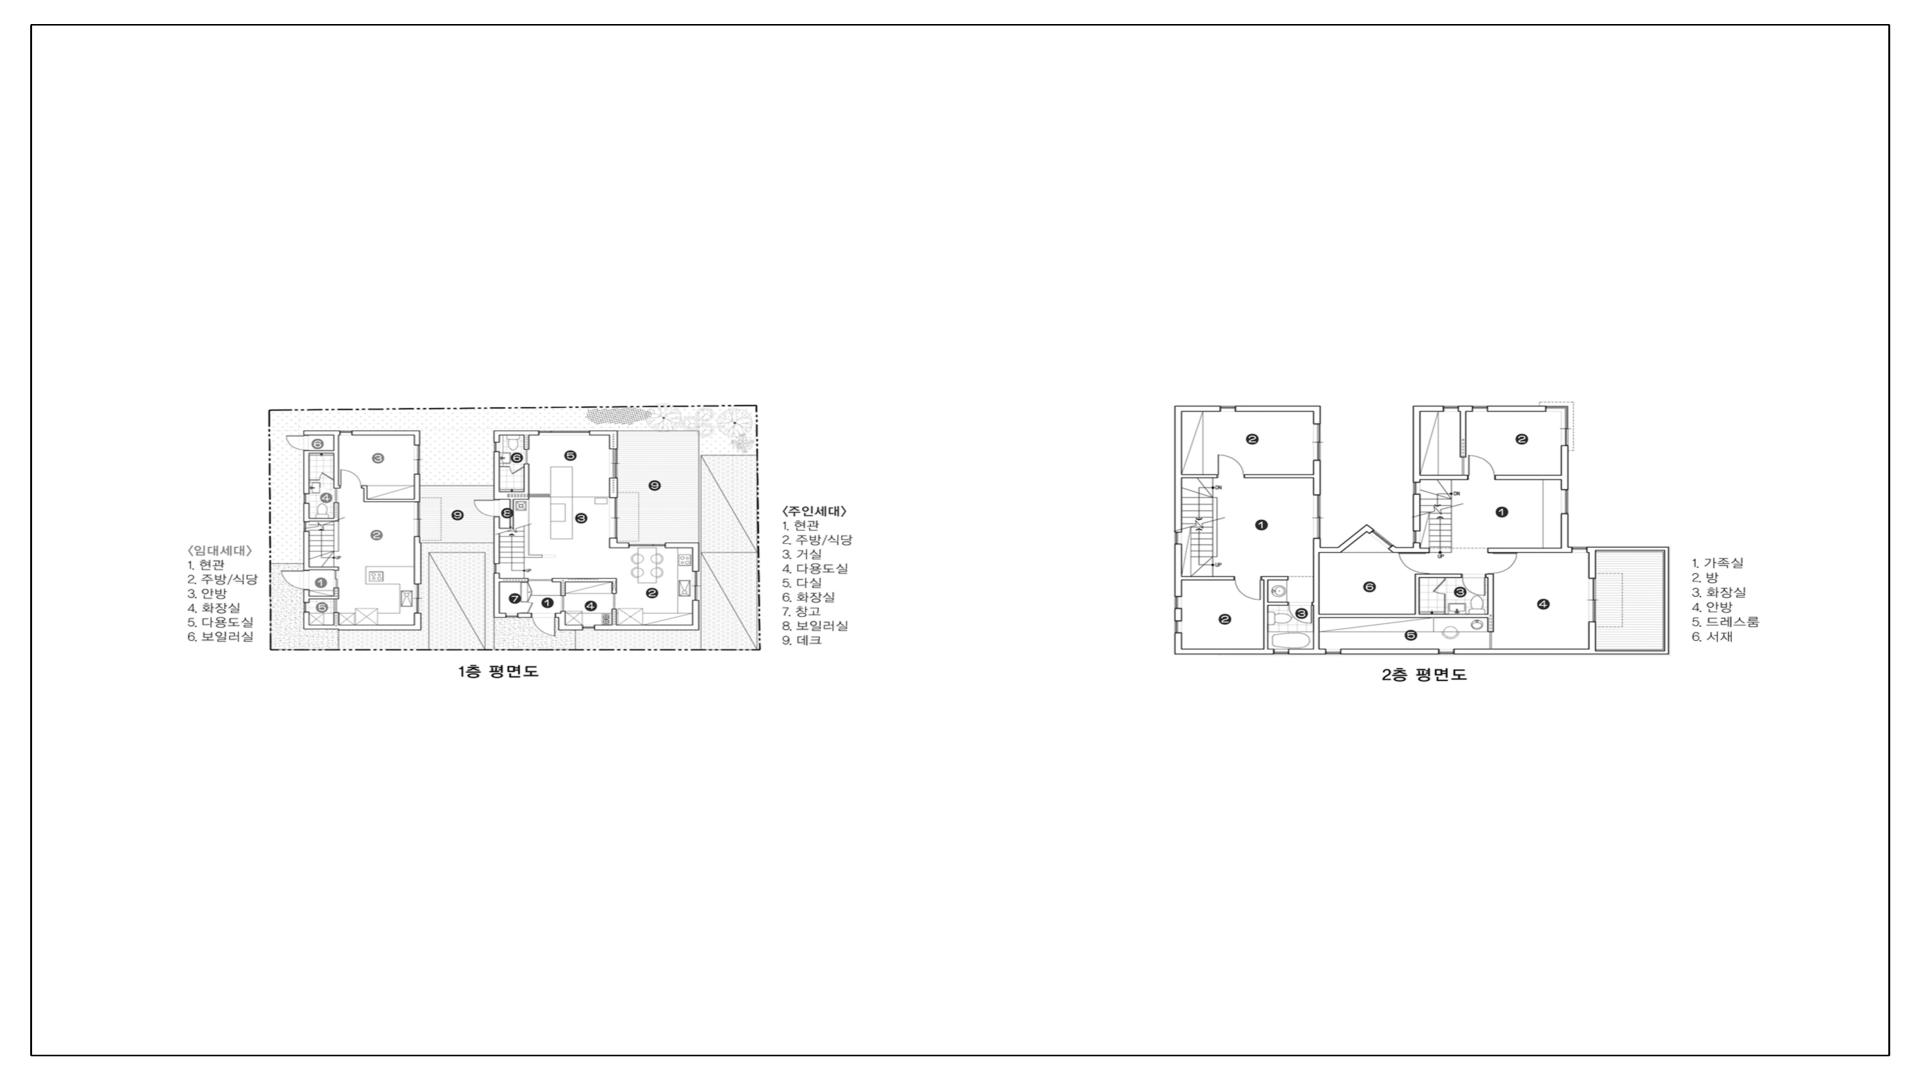door: (1468, 455, 1495, 480), (1398, 553, 1430, 574), (1234, 576, 1261, 600), (1217, 454, 1244, 478), (1487, 553, 1518, 573), (532, 613, 556, 637), (1462, 574, 1487, 596), (1288, 602, 1313, 624), (280, 571, 309, 589), (340, 469, 364, 489), (474, 500, 500, 517), (286, 436, 309, 450), (1433, 578, 1446, 595), (318, 472, 334, 481), (509, 466, 524, 474), (1487, 632, 1494, 649), (333, 570, 339, 588), (1460, 458, 1466, 475), (560, 596, 566, 611), (333, 489, 339, 502), (333, 599, 339, 612), (612, 594, 617, 609), (524, 450, 529, 464), (527, 602, 533, 613)
wall: (1454, 649, 1664, 655), (1174, 406, 1182, 532), (1338, 528, 1367, 553), (1313, 553, 1320, 649), (1320, 614, 1487, 618), (1235, 405, 1321, 412), (1340, 649, 1440, 655), (1182, 649, 1274, 655), (304, 625, 414, 630), (1413, 406, 1420, 482), (595, 625, 699, 630), (1664, 551, 1669, 654), (1587, 547, 1669, 553), (1174, 544, 1182, 597), (1487, 574, 1494, 632), (1487, 548, 1561, 553), (1561, 445, 1569, 490), (1487, 406, 1546, 412), (352, 430, 420, 435), (414, 536, 421, 584), (1495, 475, 1561, 480), (552, 578, 617, 583), (1561, 513, 1569, 553), (494, 452, 500, 500), (494, 517, 500, 564), (1313, 460, 1321, 495), (1264, 580, 1268, 649), (1244, 474, 1313, 478), (1460, 412, 1466, 457), (334, 435, 339, 489), (303, 532, 310, 570), (304, 450, 310, 494), (500, 491, 529, 500), (1413, 494, 1420, 531), (494, 573, 500, 613), (1420, 475, 1468, 480), (1182, 406, 1221, 412), (1288, 649, 1326, 655), (1182, 576, 1234, 580), (665, 542, 699, 548), (1415, 574, 1420, 614), (1388, 545, 1413, 553), (303, 430, 341, 435), (1589, 622, 1596, 649), (524, 524, 530, 555), (1589, 553, 1596, 579), (609, 478, 618, 498), (1174, 633, 1182, 655), (692, 600, 699, 625), (414, 474, 420, 502), (1420, 574, 1462, 578), (1313, 547, 1341, 553), (692, 548, 699, 571), (499, 431, 539, 435), (334, 521, 339, 551), (364, 499, 414, 502), (1182, 474, 1217, 478), (1421, 406, 1444, 412), (524, 464, 529, 491), (509, 500, 514, 527), (609, 435, 618, 449), (1362, 524, 1374, 534), (414, 613, 421, 630), (500, 578, 529, 582), (590, 431, 618, 435), (1261, 576, 1288, 580), (1313, 412, 1321, 424), (310, 450, 334, 454), (304, 503, 309, 522), (1175, 608, 1182, 621), (1458, 406, 1473, 412), (609, 538, 618, 548), (309, 596, 339, 599), (309, 567, 339, 570), (310, 518, 339, 521), (566, 625, 583, 630), (559, 618, 566, 630), (560, 582, 566, 596), (612, 609, 617, 625), (304, 612, 310, 625), (334, 503, 339, 518), (524, 435, 529, 450), (1313, 538, 1321, 547), (304, 589, 309, 603), (1413, 543, 1420, 553), (518, 613, 532, 618), (334, 612, 339, 625), (414, 435, 420, 445), (1268, 602, 1288, 605), (618, 543, 630, 548), (364, 485, 368, 499), (494, 431, 499, 442), (612, 583, 617, 594), (525, 555, 543, 558), (1420, 548, 1430, 553), (556, 613, 566, 618), (494, 613, 506, 617), (334, 588, 339, 596), (1444, 595, 1446, 614), (500, 527, 514, 529), (1569, 547, 1572, 553), (310, 479, 318, 481), (561, 611, 566, 613), (500, 466, 508, 467)
window: (1370, 530, 1393, 548), (609, 498, 618, 538), (1588, 579, 1596, 622), (1313, 496, 1321, 538), (1313, 424, 1321, 460), (1561, 412, 1569, 445), (609, 449, 618, 478), (539, 431, 590, 435), (414, 502, 420, 536), (692, 571, 699, 600), (414, 584, 421, 613), (1561, 490, 1569, 513), (630, 543, 665, 548), (414, 445, 420, 474), (1547, 406, 1569, 412), (1174, 532, 1182, 544), (1572, 547, 1587, 553), (1440, 649, 1454, 655), (1221, 406, 1235, 412), (1444, 406, 1458, 412), (1473, 406, 1487, 412), (1175, 621, 1182, 633), (1413, 483, 1420, 494), (1413, 531, 1420, 542), (1175, 597, 1182, 608), (1274, 649, 1288, 654), (1326, 649, 1340, 654), (506, 613, 518, 618), (583, 625, 595, 630), (341, 430, 352, 435), (494, 564, 500, 573), (494, 443, 499, 452), (304, 494, 309, 503), (304, 522, 309, 531), (304, 603, 309, 612)
